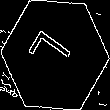L_SE: (29, 28, 81, 82)
